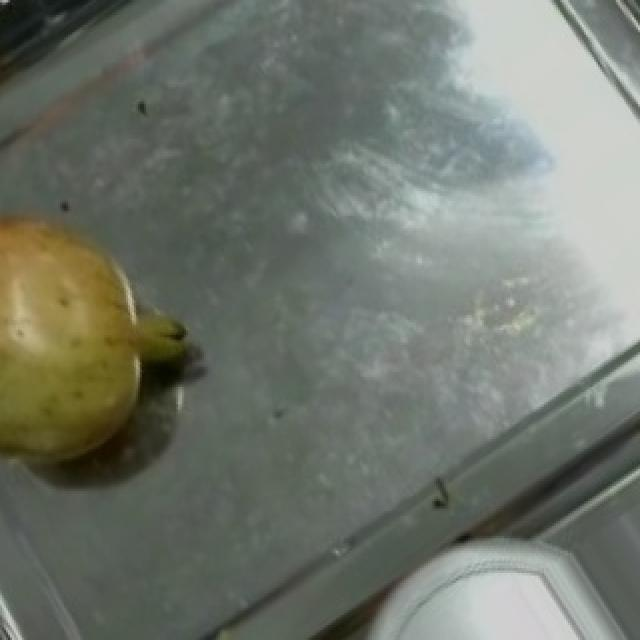fruit: (0, 231, 176, 491)
